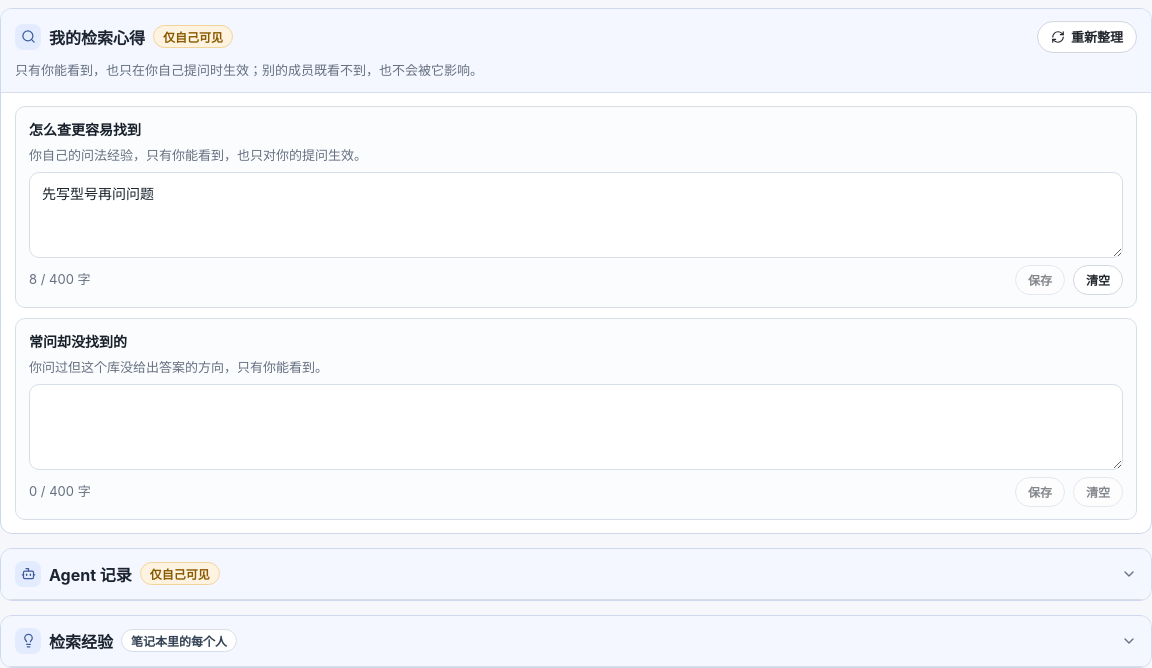
Test: Agent 记录：展开后拉取一次，空态显示「暂无 Agent 记录」
(page scrolled)
Click the text "Agent 记录". click: (90, 574)
box: [49, 562, 132, 586]
(page scrolled)
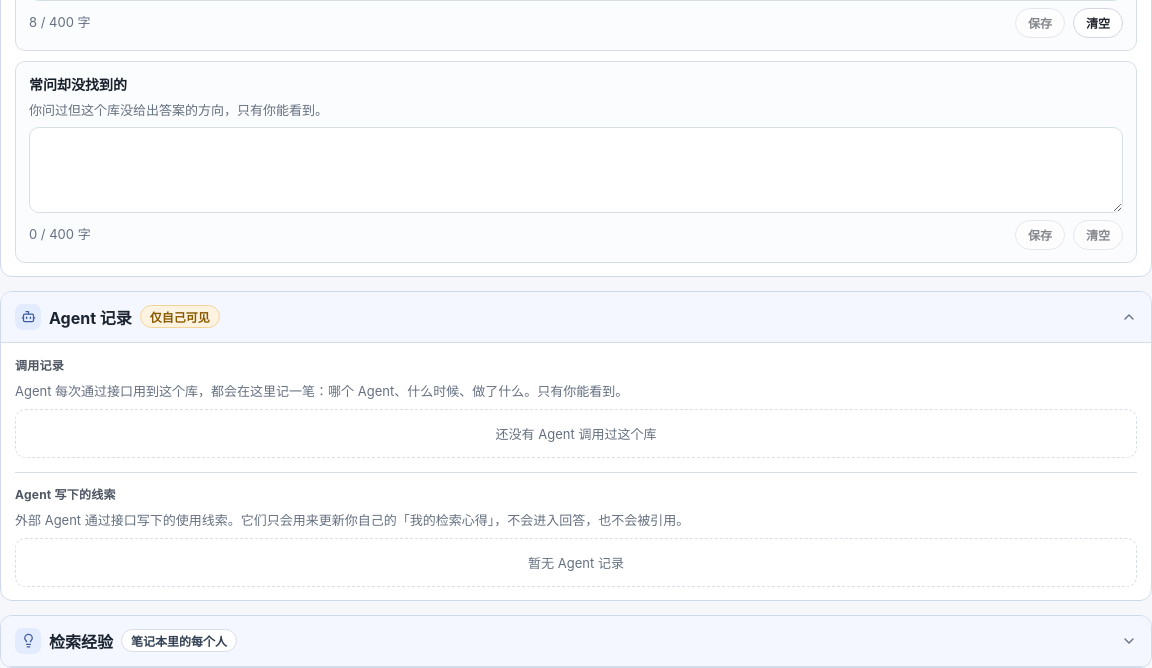
Result: the text "暂无 Agent 记录" is shown at [15, 538, 1137, 587]
